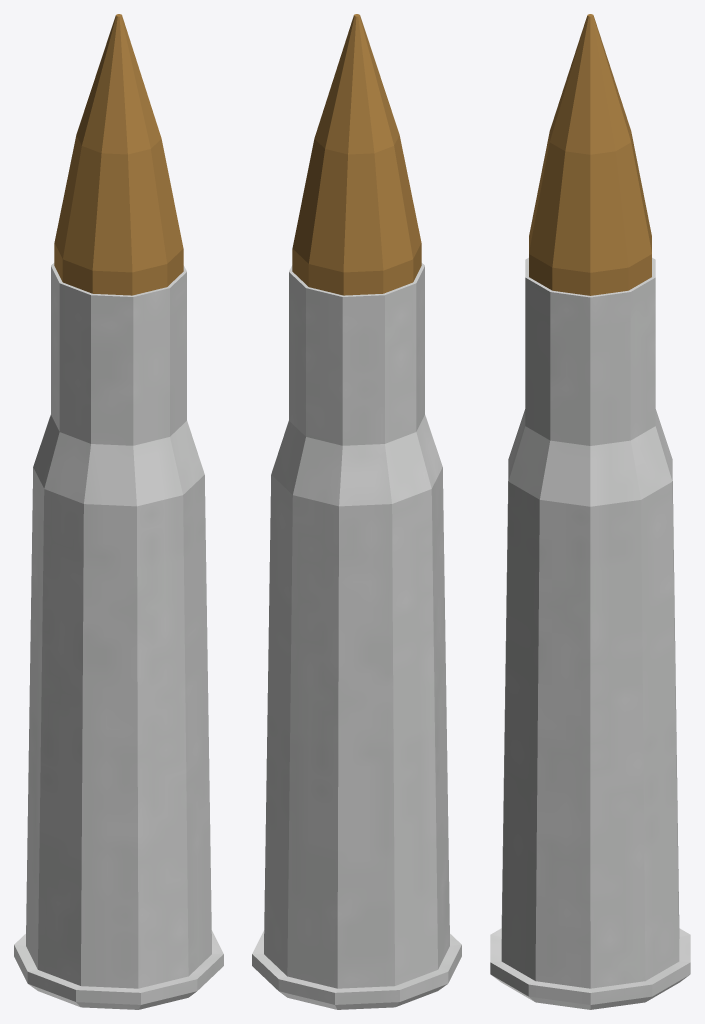
The model's file is 8mm Smokeless.fbx.
3 renders of one model, left to right at view 1: azimuth 30°, elevation 25°; view 2: azimuth 150°, elevation 25°; view 3: azimuth 270°, elevation 25°, orthographic.
Visible parts, largest first — view 1: Casing1.001, Bullet1.001; view 2: Casing1.001, Bullet1.001; view 3: Casing1.001, Bullet1.001.
Part boxes in pixels (box(x1,y1,x2,y2)): Casing1.001: box(14, 263, 223, 1009); Bullet1.001: box(54, 14, 183, 295); Casing1.001: box(252, 263, 461, 1009); Bullet1.001: box(292, 14, 421, 295); Casing1.001: box(490, 257, 690, 1009); Bullet1.001: box(529, 14, 651, 295).
Bounding box in the file's own units: 11.33 × 56.66 × 10.77.
